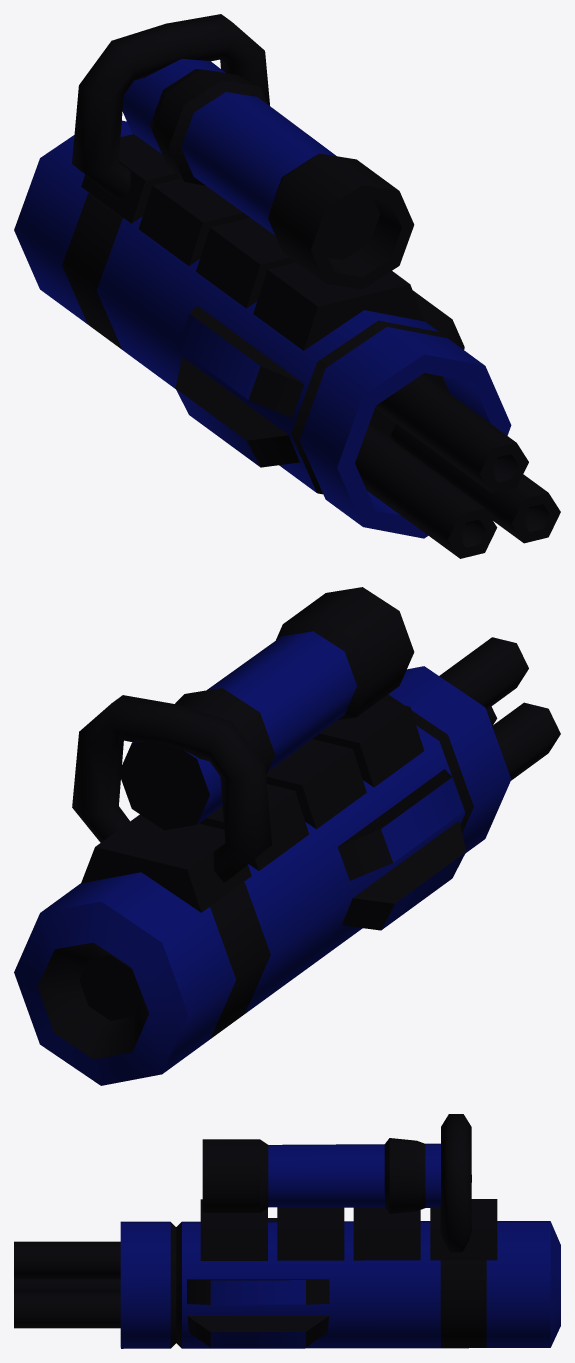
The model's file is 01_player_G_3_W.FBX.
3 views of the same model, one above another, from view 1: azimuth 30°, elevation 25°; view 2: azimuth 150°, elevation 25°; view 3: azimuth 270°, elevation 25° (orthographic). The views are drawn at different scales.
Parts seen in each view (by area): view 1: 01_player_G_3; view 2: 01_player_G_3; view 3: 01_player_G_3.
Boxes of the visible parts, bbox=[...] form: 01_player_G_3: bbox=[14, 14, 560, 558]; 01_player_G_3: bbox=[14, 587, 560, 1085]; 01_player_G_3: bbox=[14, 1114, 560, 1348].
Size of the model in its own units: 37.07 by 52.63 by 120.
